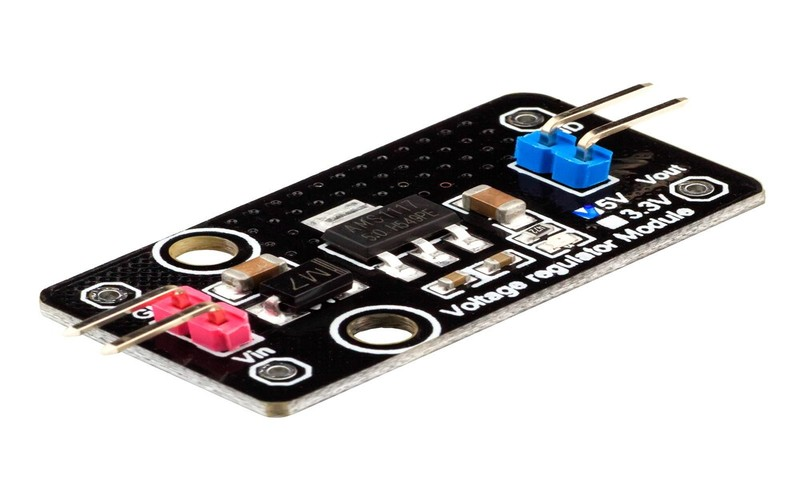Regulator: (38, 50, 783, 430)
